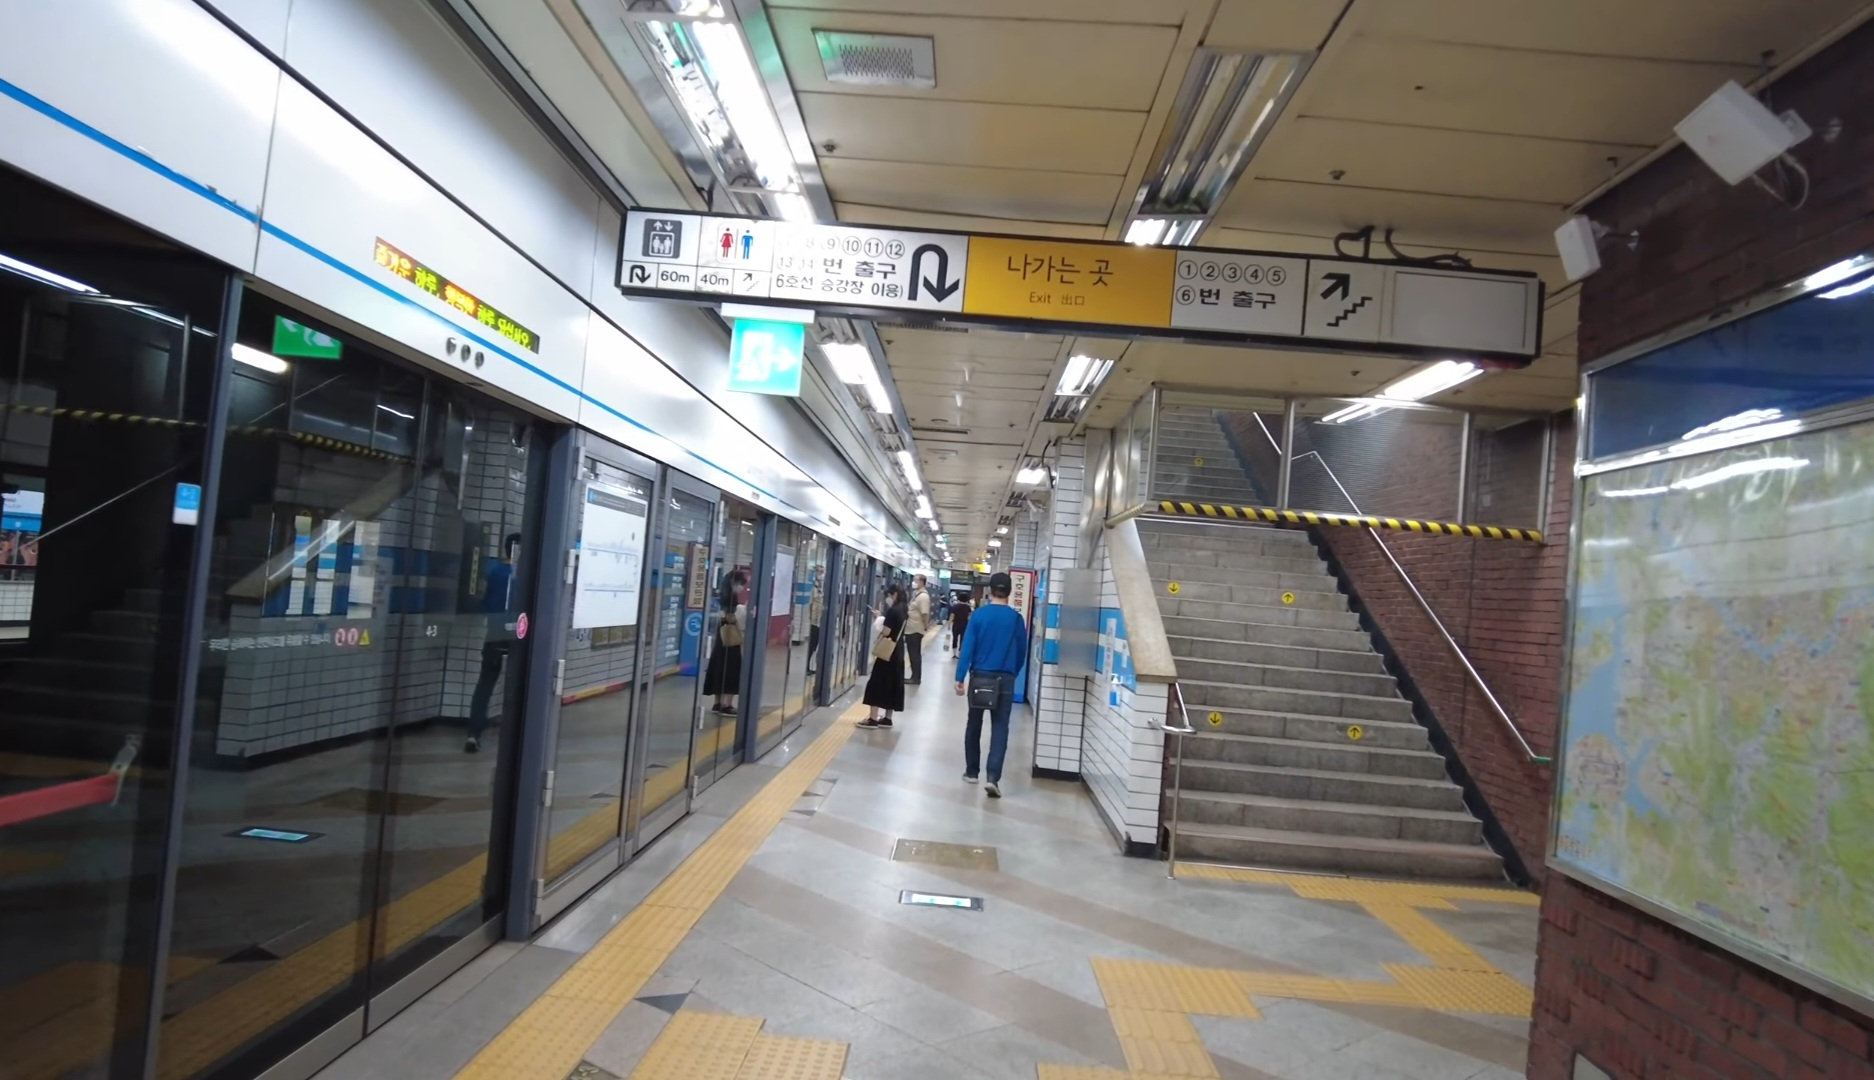signBoard: (602, 142, 1572, 373)
